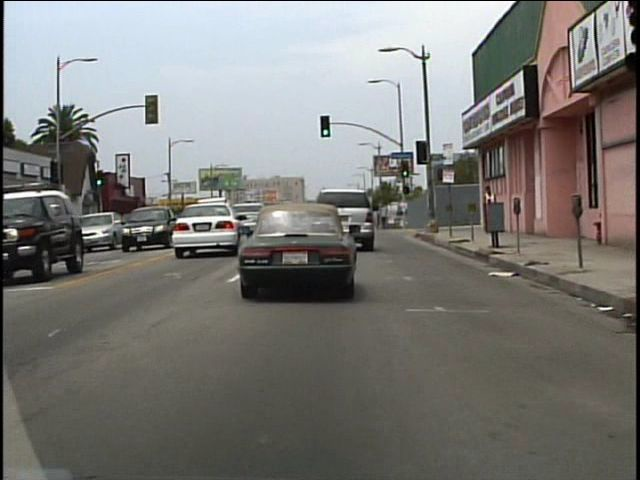person: (480, 183, 500, 236)
